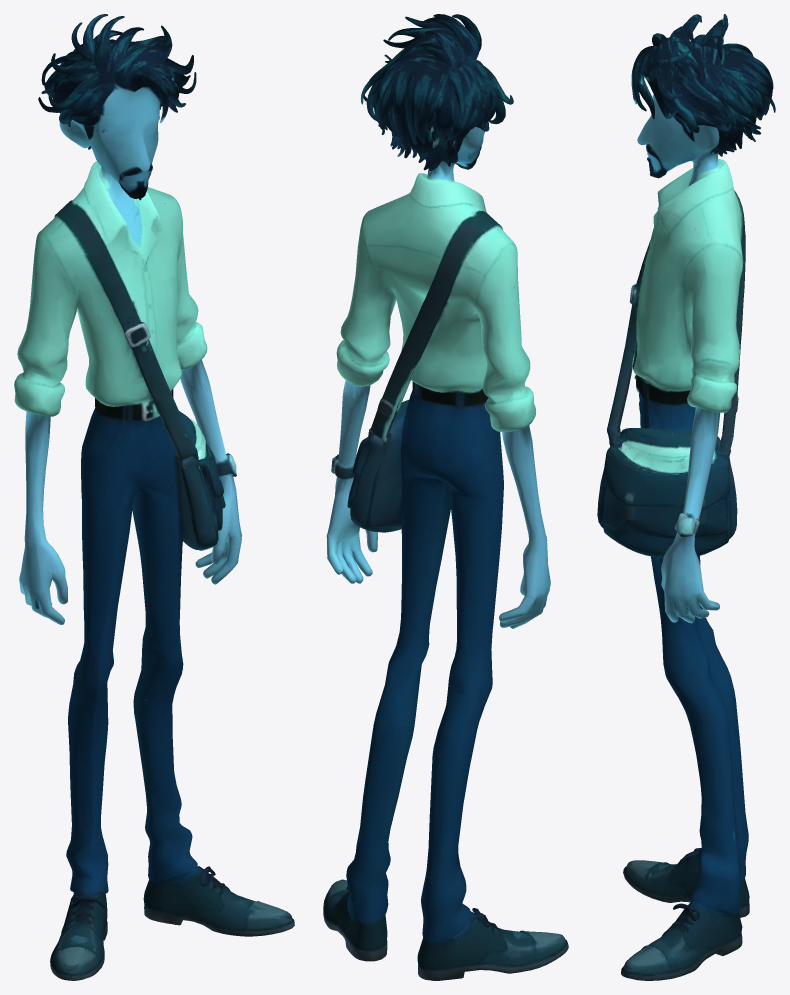
The model's file is jota-meshy-textura-web.glb.
3 renders of one model, left to right at view 1: azimuth 30°, elevation 25°; view 2: azimuth 150°, elevation 25°; view 3: azimuth 270°, elevation 25°, orthographic. The views are drawn at different scales.
Parts seen in each view (by area): view 1: jota; view 2: jota; view 3: jota.
Part boxes in pixels (bbox=[...]): jota: bbox=[14, 14, 294, 980]; jota: bbox=[323, 14, 568, 980]; jota: bbox=[597, 14, 775, 980].
Size of the model in its own units: 0.5162 by 1.9 by 0.3409.
7 materials, 7 textured.
